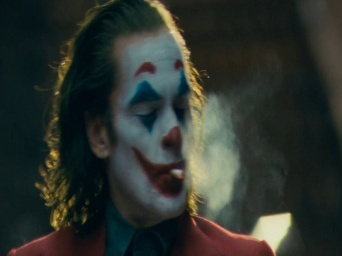smoke: (167, 166, 185, 180)
